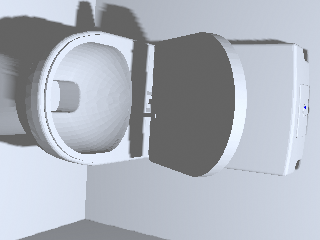lid_1: (149, 33, 246, 176)
